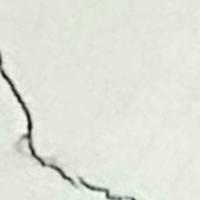crack: (0, 48, 140, 199)
